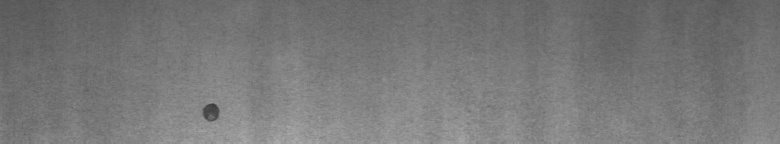fi: (196, 96, 225, 128)
